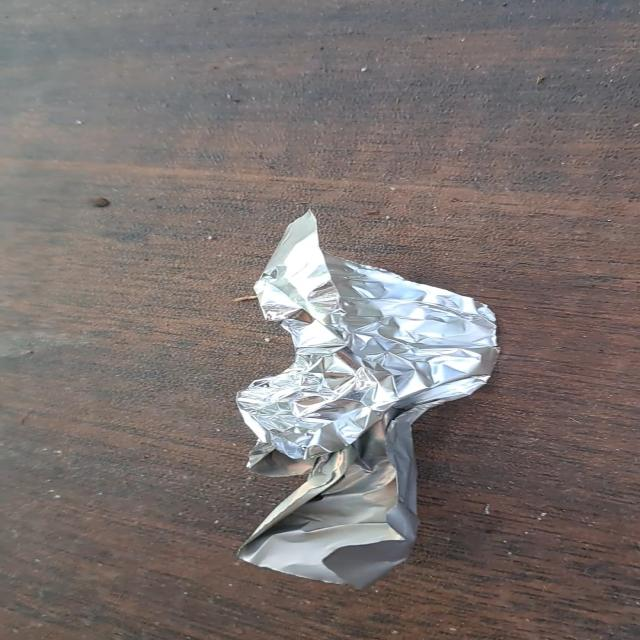Anorganik: (216, 200, 518, 597)
